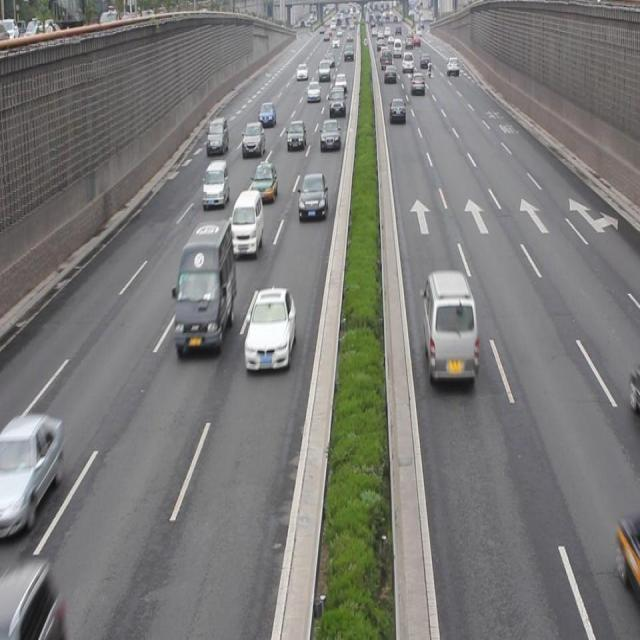car: (0, 410, 62, 535), (244, 287, 295, 371), (298, 172, 326, 220), (249, 160, 277, 201), (206, 115, 229, 156), (242, 120, 264, 157), (320, 117, 341, 152), (285, 120, 307, 153), (388, 96, 406, 124), (258, 102, 276, 126)
truck: (173, 220, 234, 351), (422, 269, 477, 385), (228, 188, 263, 255), (202, 159, 229, 210)
